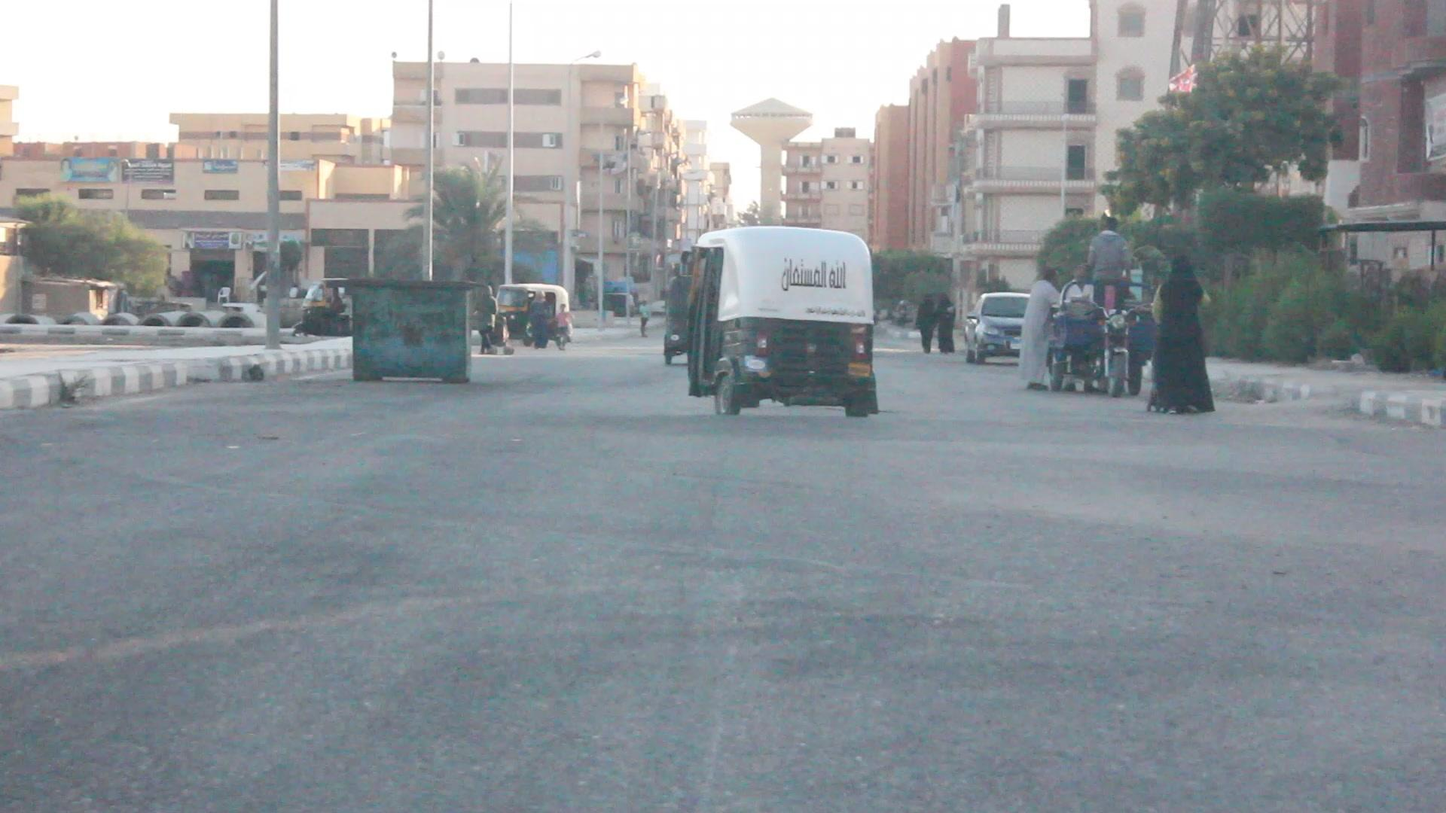Bump: (55, 403, 1446, 470)
